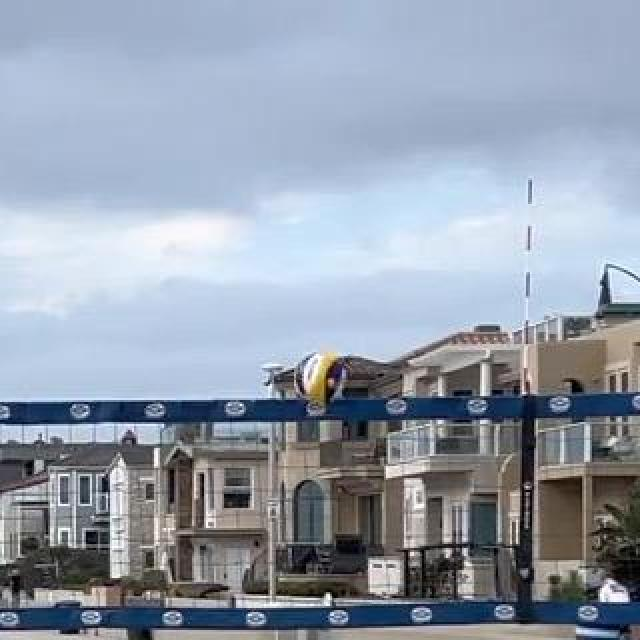volleyball: (297, 352, 347, 406)
